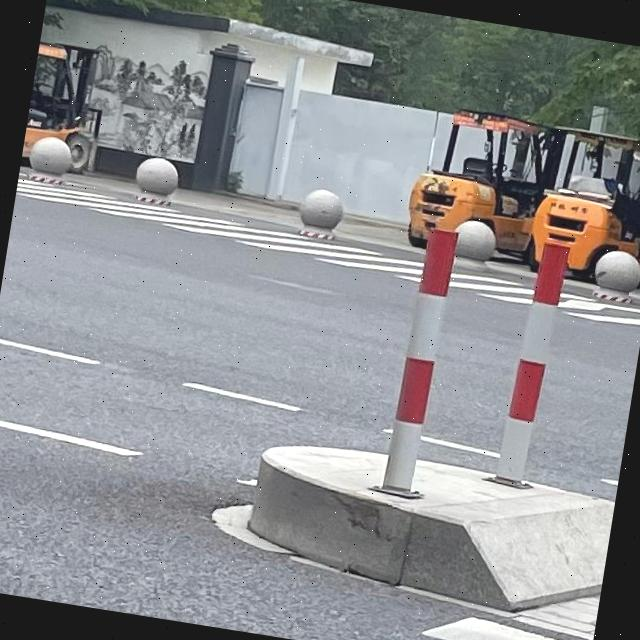curb: (249, 446, 612, 610), (172, 203, 299, 234), (331, 235, 424, 263), (487, 264, 538, 289), (562, 280, 593, 297), (631, 290, 640, 303)
